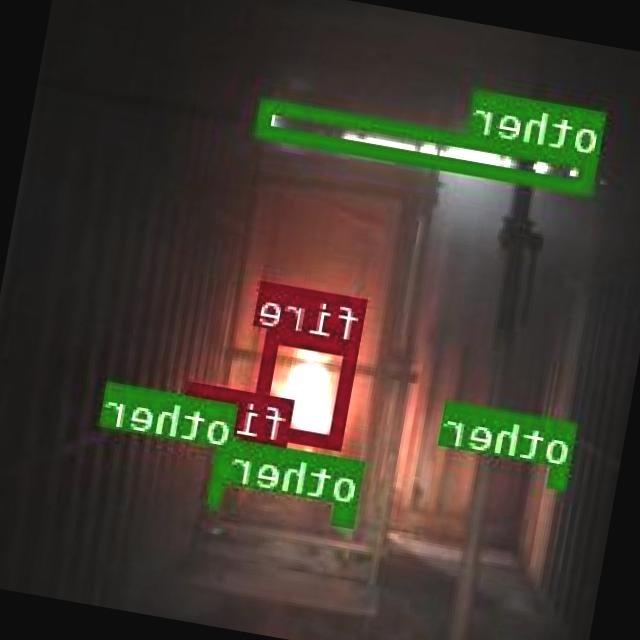fire: (252, 326, 362, 448), (234, 436, 287, 487)
